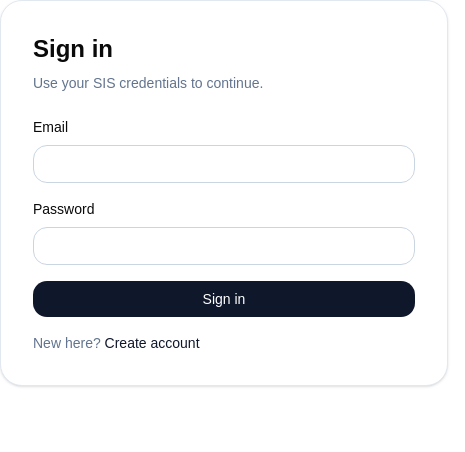
it: LoginPage — validation › shows email validation error when submitted empty
Click the button "Sign in" at {"x": 224, "y": 299}, box top-left (33, 281), bottom-right (415, 317)
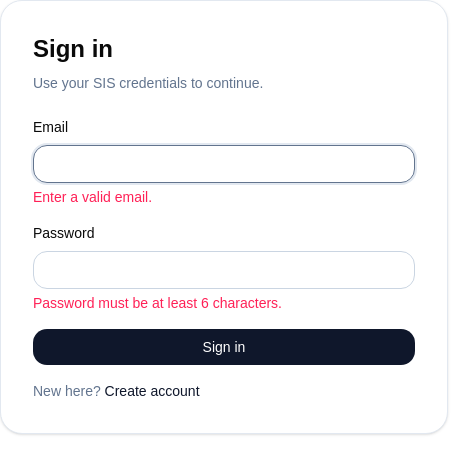
Now the text "Enter a valid email." is shown, box top-left (33, 189), bottom-right (152, 205)
